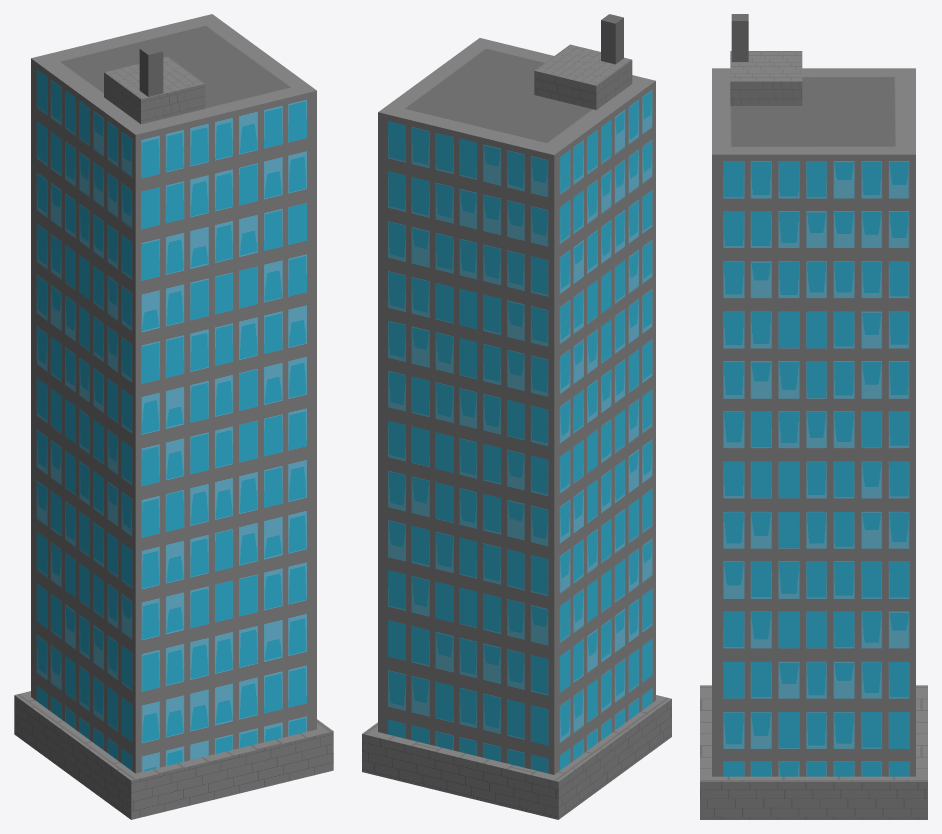
The model's file is skyscratcher2.fbx.
3 renders of one model, left to right at view 1: azimuth 30°, elevation 25°; view 2: azimuth 150°, elevation 25°; view 3: azimuth 270°, elevation 25°, orthographic. The views are drawn at different scales.
Parts seen in each view (by area): view 1: SkyScratcher2; view 2: SkyScratcher2; view 3: SkyScratcher2.
Part boxes in pixels (box(x1,y1,x2,y2)): SkyScratcher2: box(14, 14, 333, 819); SkyScratcher2: box(362, 14, 671, 819); SkyScratcher2: box(700, 14, 927, 819).
Bounding box in the file's own units: 130 × 456 × 130.
